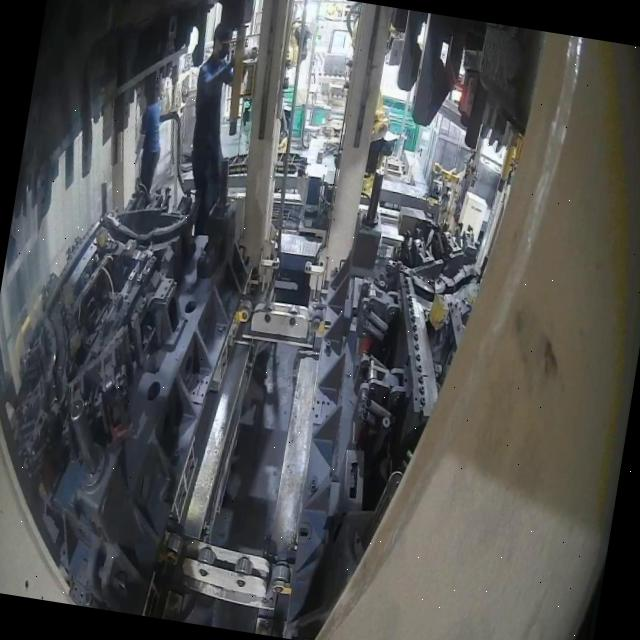Person: (173, 20, 253, 242), (128, 81, 172, 201)
